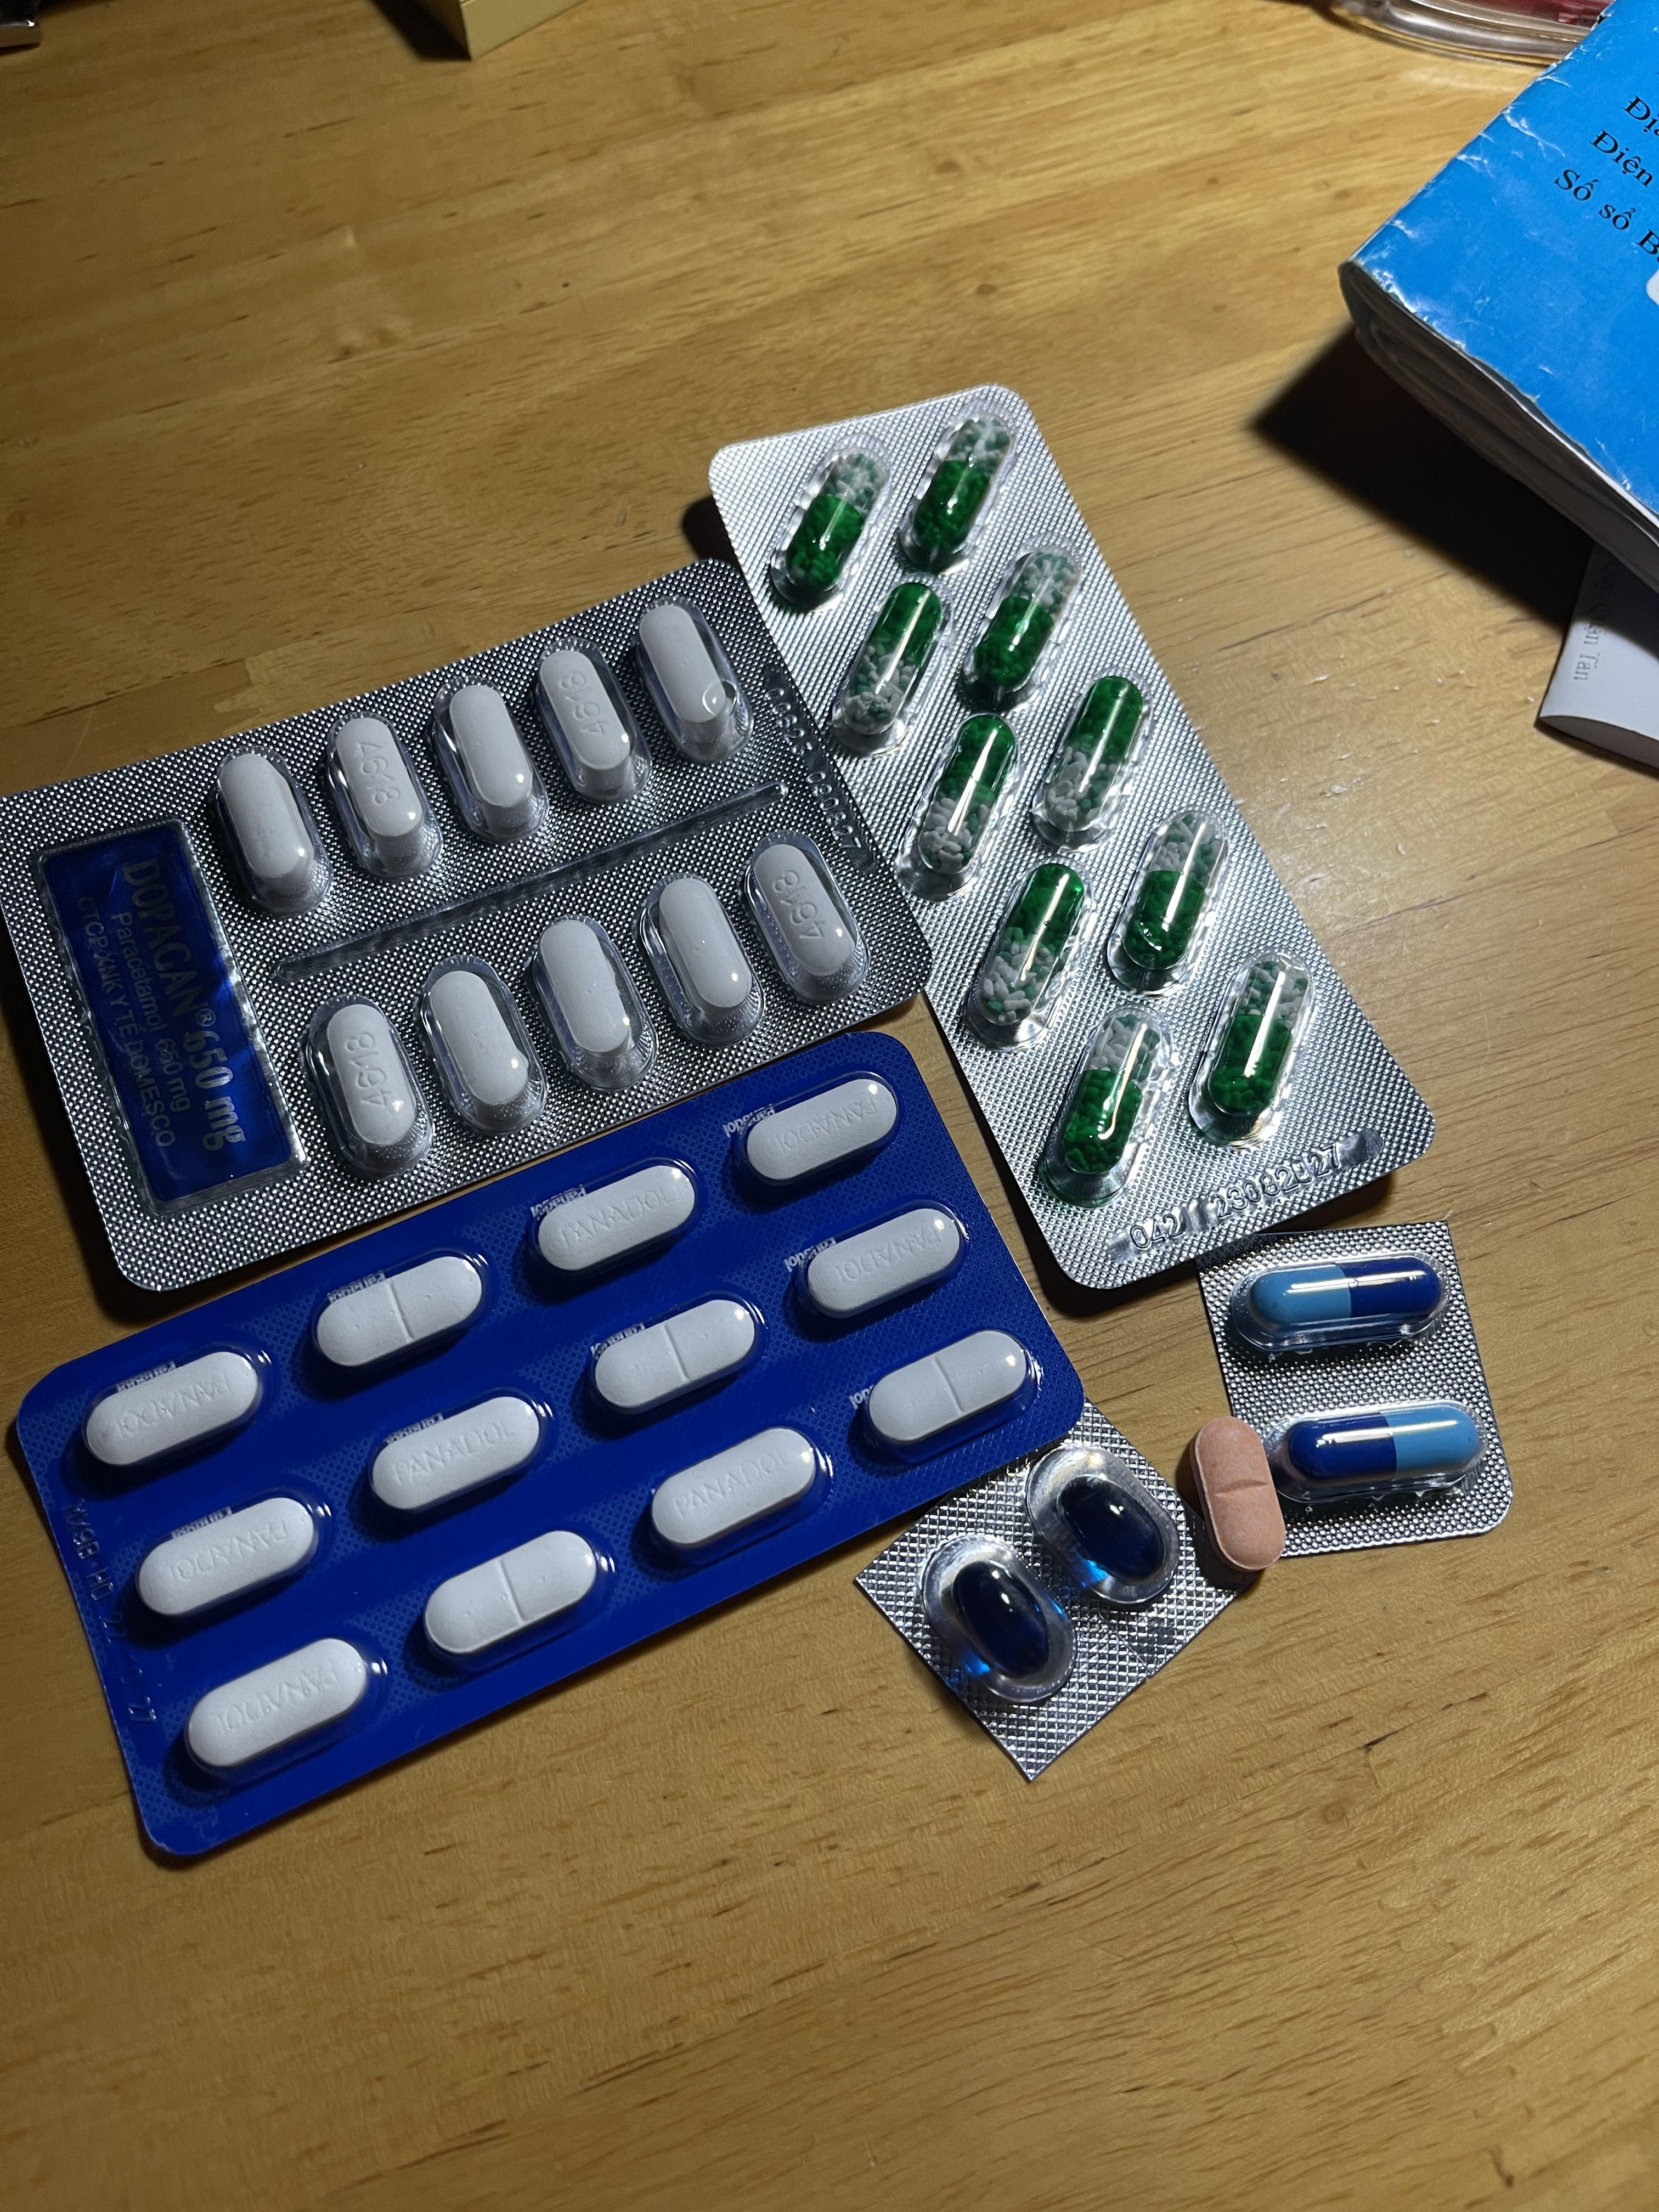Lincomyxin_500mg: (951, 1560, 1056, 1676), (1058, 1475, 1163, 1577)
Loratadine_10mg: (1187, 1414, 1284, 1578)
Paracetamol_350mg: (185, 1635, 377, 1780), (135, 1492, 324, 1628), (424, 1529, 604, 1668), (81, 1345, 266, 1476), (649, 1428, 822, 1564), (585, 1295, 765, 1424), (369, 1394, 547, 1520), (862, 1327, 1029, 1460), (313, 1252, 483, 1379), (532, 1159, 699, 1278), (794, 1208, 961, 1326), (741, 1075, 898, 1187)
Paracetamol_500mg: (304, 994, 435, 1165), (414, 958, 541, 1132), (746, 837, 863, 1009), (324, 714, 443, 881), (213, 753, 329, 919), (634, 601, 750, 764), (436, 683, 549, 842), (533, 645, 646, 802), (538, 916, 640, 1063), (654, 873, 754, 1023)
Paracetamol_650mg: (955, 538, 1085, 710), (1187, 958, 1306, 1143), (1037, 1016, 1156, 1200), (961, 867, 1083, 1046), (906, 715, 1019, 887), (1029, 677, 1144, 845), (828, 580, 944, 746), (1105, 813, 1215, 985), (901, 413, 1015, 571), (780, 454, 885, 598)
pill: (1284, 1405, 1481, 1481), (1256, 1259, 1438, 1327)
